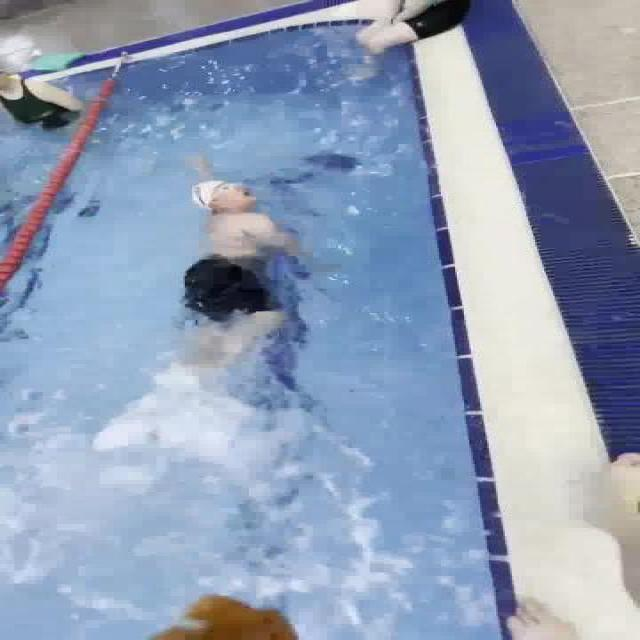Drowning: (174, 148, 301, 386)
